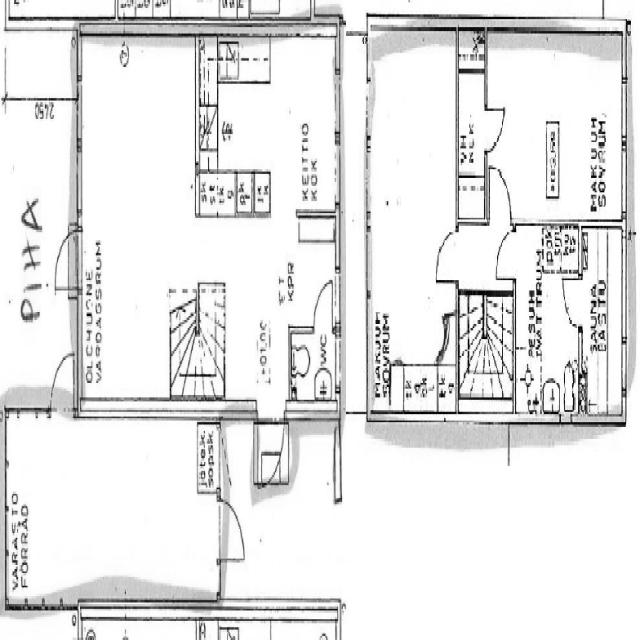door: (216, 496, 248, 569), (50, 226, 80, 298), (48, 343, 77, 414), (487, 161, 514, 227), (434, 226, 461, 286), (493, 226, 517, 285), (482, 98, 506, 156), (561, 270, 583, 331), (312, 276, 335, 332)
window: (70, 114, 86, 230), (362, 138, 374, 220), (363, 62, 374, 148), (332, 68, 345, 140), (332, 136, 344, 208), (363, 223, 374, 300)
zone: (77, 32, 197, 416), (368, 40, 458, 396), (0, 16, 77, 376), (198, 33, 338, 216), (486, 38, 626, 220), (513, 225, 581, 421), (580, 222, 626, 419), (457, 56, 486, 224), (288, 326, 340, 408), (198, 420, 222, 500), (458, 177, 486, 224)
